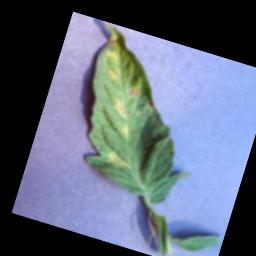Leaf_Mold: (103, 148, 136, 172), (107, 95, 134, 122), (101, 62, 125, 84), (116, 121, 133, 141), (124, 82, 142, 100)
